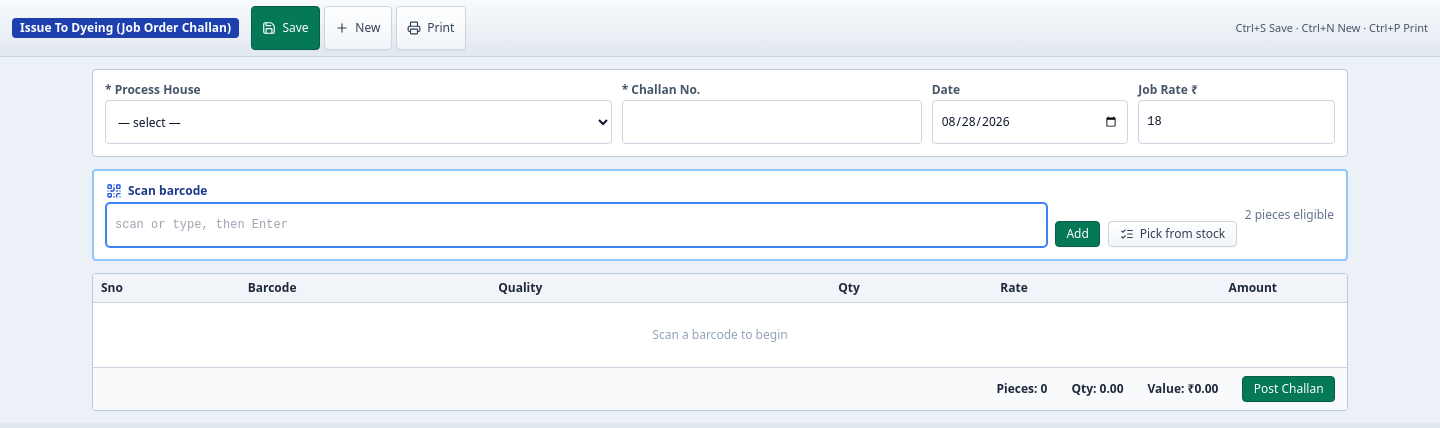
Test case: scanning pieces onto a challan › the Add button works as well as the Enter key, for a gloved thumb
The image size is (1440, 428).
Expected: the text "2 pieces eligible" is shown, [1245,207,1334,223]
Type "NKT001" into the field labelled "Scan barcode" at (577, 225), box [106,203,1047,247]
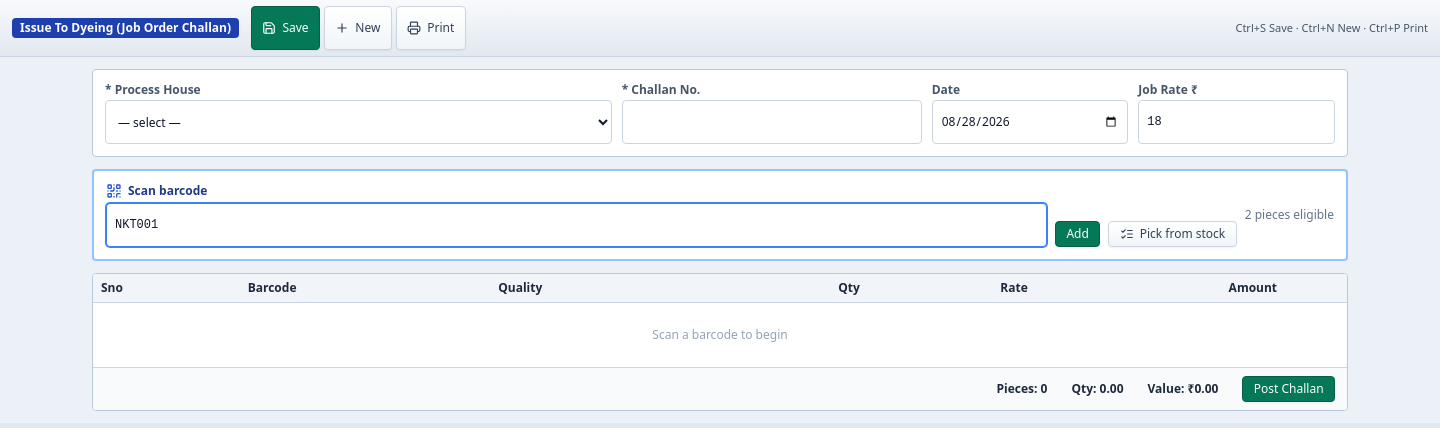
Submit the form labelled "Scan barcode Add Pick from stock 2 pieces eligible", box [92,169,1348,261]
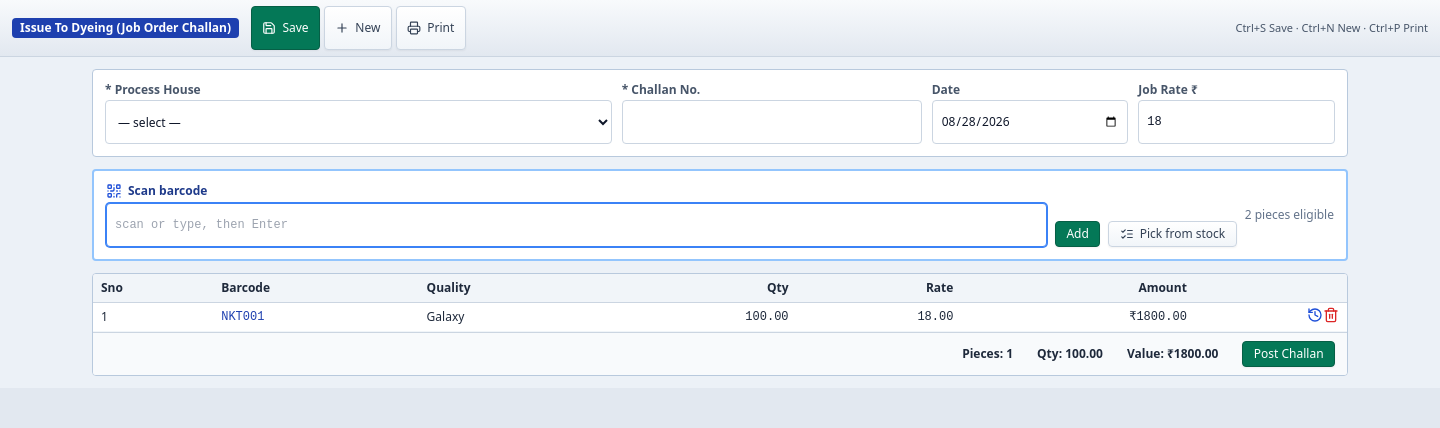
Expected: the text "Pieces: 1" is shown, [962,346,1013,362]
Type "NKT002" into the field labelled "Scan barcode" at (577, 225), box [106,203,1047,247]
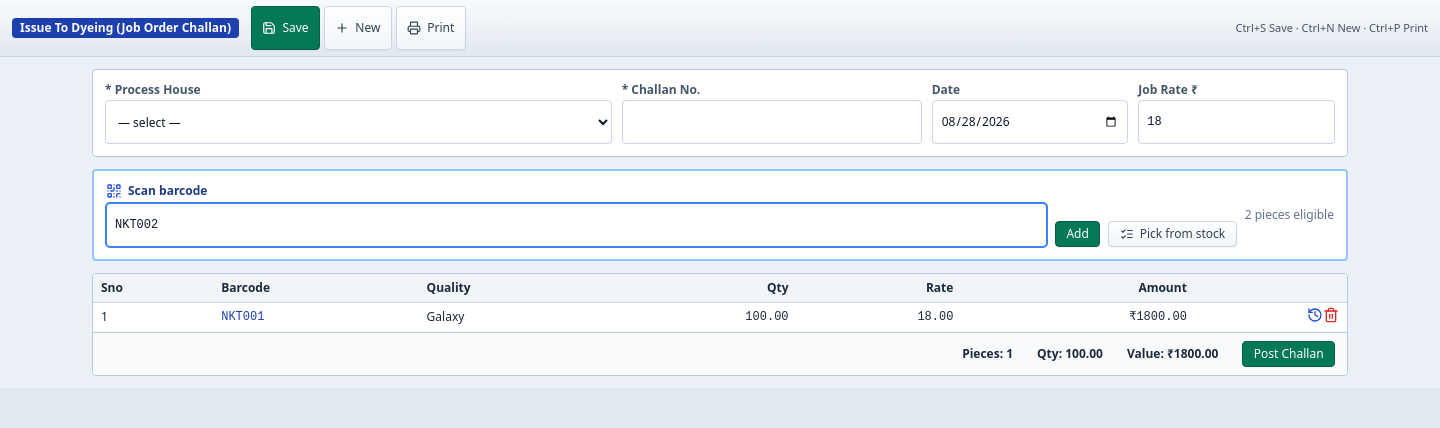
Click the button "Add" at (1078, 234), box [1055,221,1100,247]
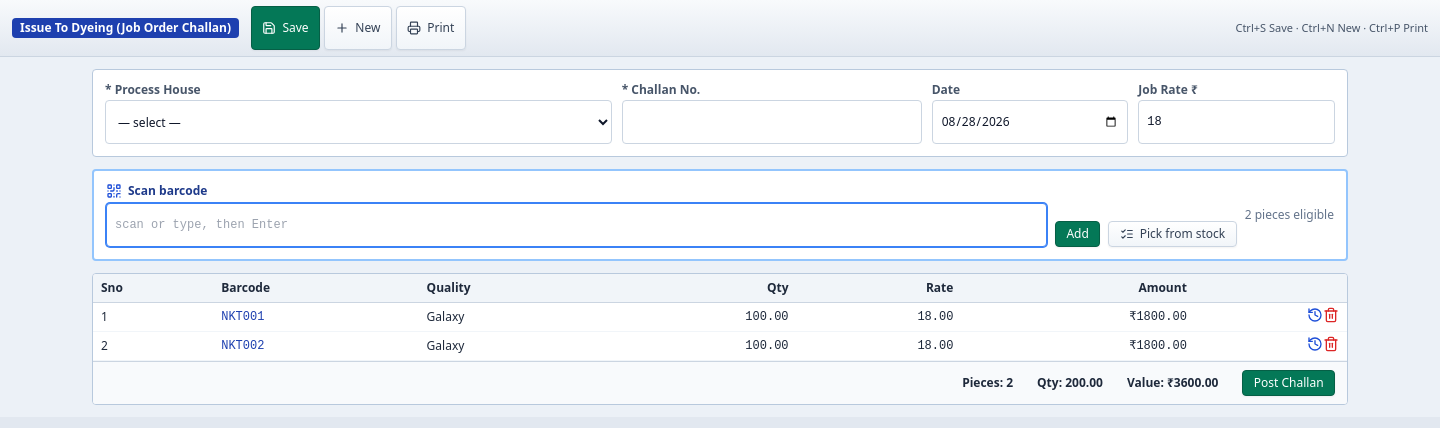
Expected: the text "Pieces: 2" is shown, [962,375,1013,391]
